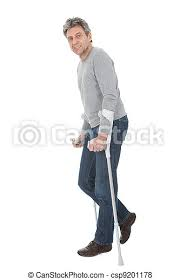crutches: (62, 17, 137, 268)
